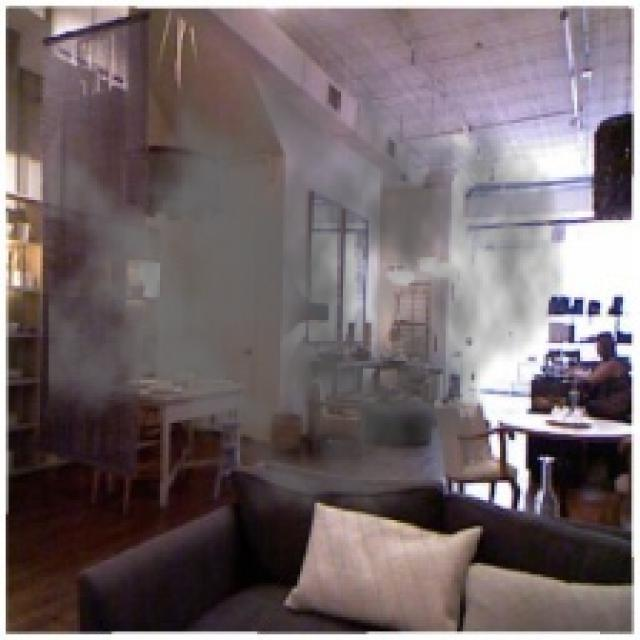Smoke: (48, 11, 566, 540)
